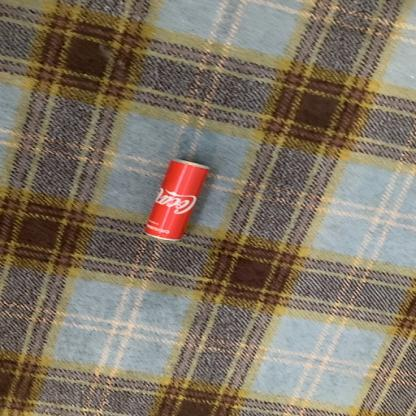trash: (140, 158, 210, 244)
